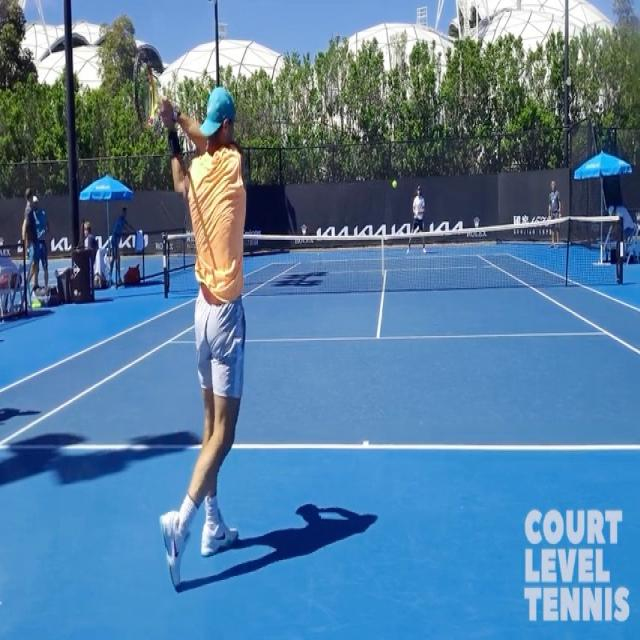backhand-finish: (119, 28, 252, 607)
